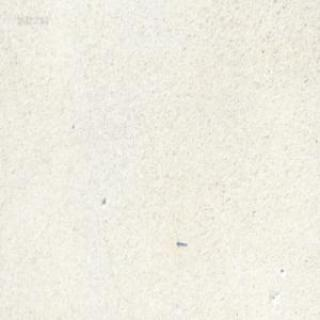Nailtrack_idkeyframe: (175, 238, 186, 246)
